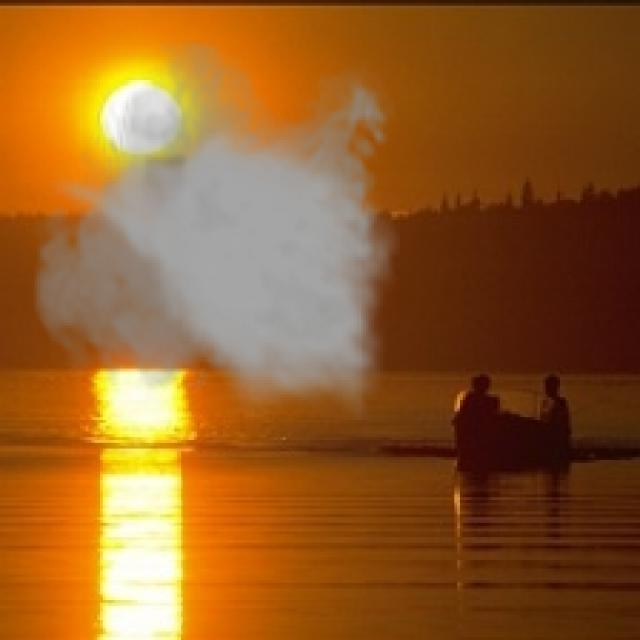Smoke: (28, 40, 400, 420)
